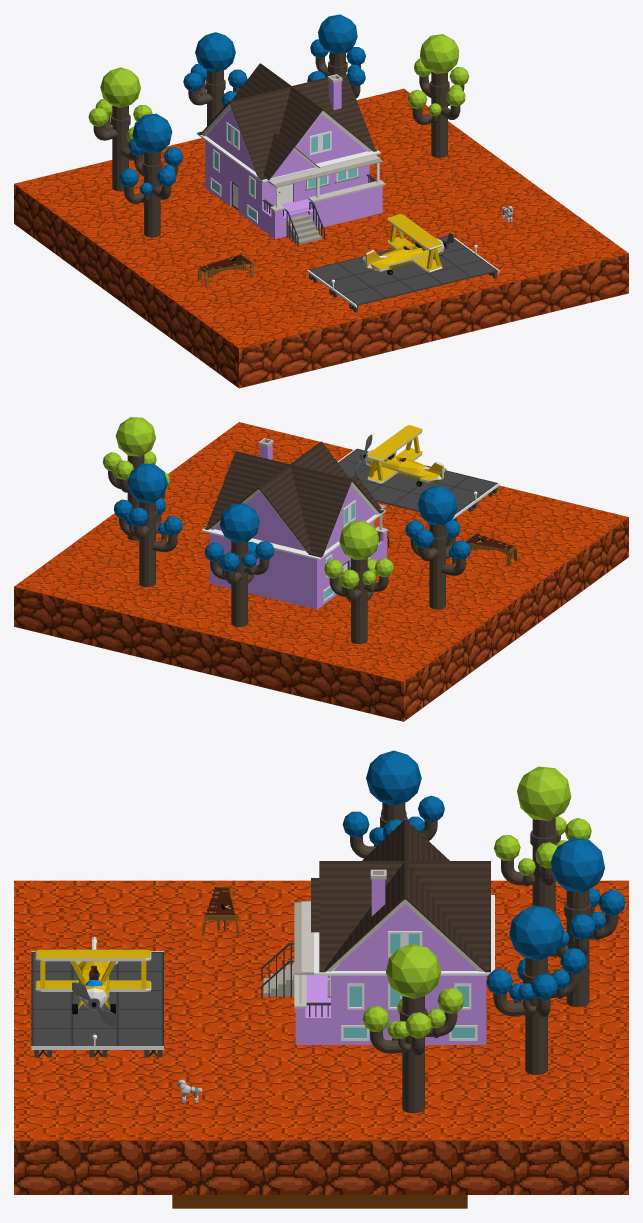
3 views of the same model, one above another, from view 1: azimuth 30°, elevation 25°; view 2: azimuth 150°, elevation 25°; view 3: azimuth 270°, elevation 25° (orthographic). The views are drawn at different scales.
Visible parts, largest first — view 1: Cube.001, Cube.391, VEHICLES_AIRPLANE, OBJRANDOM_MARIMBA; view 2: Cube.001, Cube.391, VEHICLES_AIRPLANE, OBJRANDOM_MARIMBA; view 3: Cube.001, Cube.391, VEHICLES_AIRPLANE, UNDERGROUND_ART_PIECE_VAN_GOGH, OBJRANDOM_MARIMBA.
Boxes of the visible parts, box(x1,y1,x2,y2) form: Cube.001: box(14, 14, 628, 388); Cube.391: box(196, 63, 385, 245); VEHICLES_AIRPLANE: box(363, 214, 454, 274); OBJRANDOM_MARIMBA: box(197, 253, 254, 285); Cube.001: box(14, 417, 628, 721); Cube.391: box(201, 438, 389, 609); VEHICLES_AIRPLANE: box(355, 425, 446, 486); OBJRANDOM_MARIMBA: box(465, 532, 517, 566); Cube.001: box(14, 750, 628, 1194); Cube.391: box(261, 820, 494, 1044); VEHICLES_AIRPLANE: box(35, 936, 151, 1025); UNDERGROUND_ART_PIECE_VAN_GOGH: box(172, 1195, 467, 1208); OBJRANDOM_MARIMBA: box(202, 886, 239, 936).
Size of the model in its own units: 4000 by 1789 by 4000.
Materials: 39 (5 with a texture image).
